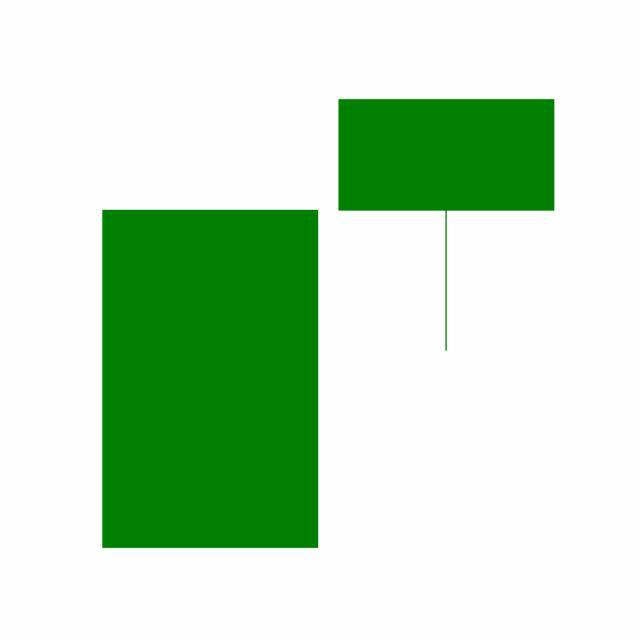Hanging Man: (328, 97, 566, 355)
